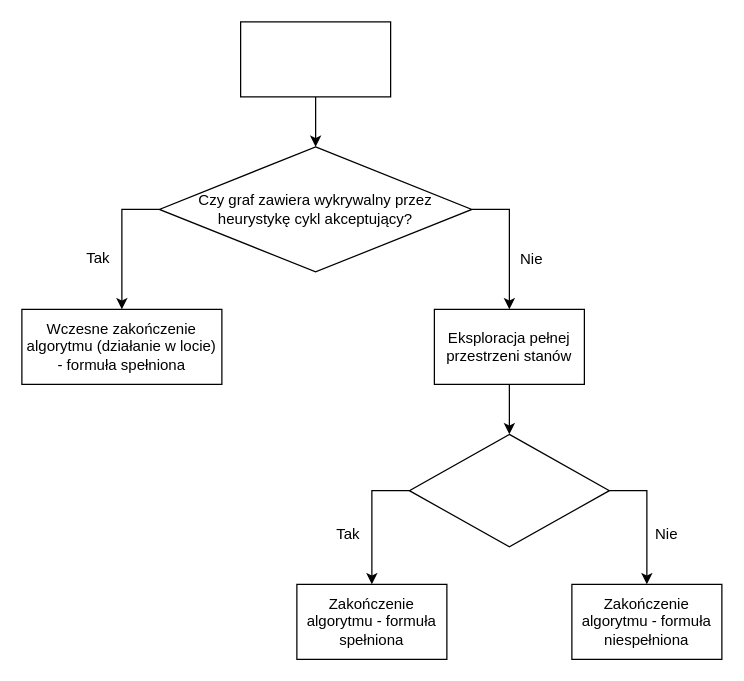
Some shapes in this 744 by 681 pixel diagram are drawn without their labels. Here are the shapes that lost their labels. From the top down, the box of each, then its label:
(239, 21, 391, 97): Start
(408, 433, 609, 547): Czy graf zawiera cykl akceptujący?
